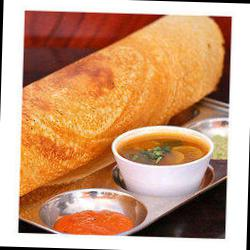dosa: (23, 11, 225, 195)
